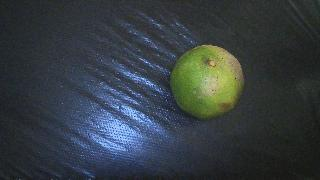DESECHO: (171, 45, 244, 119)
